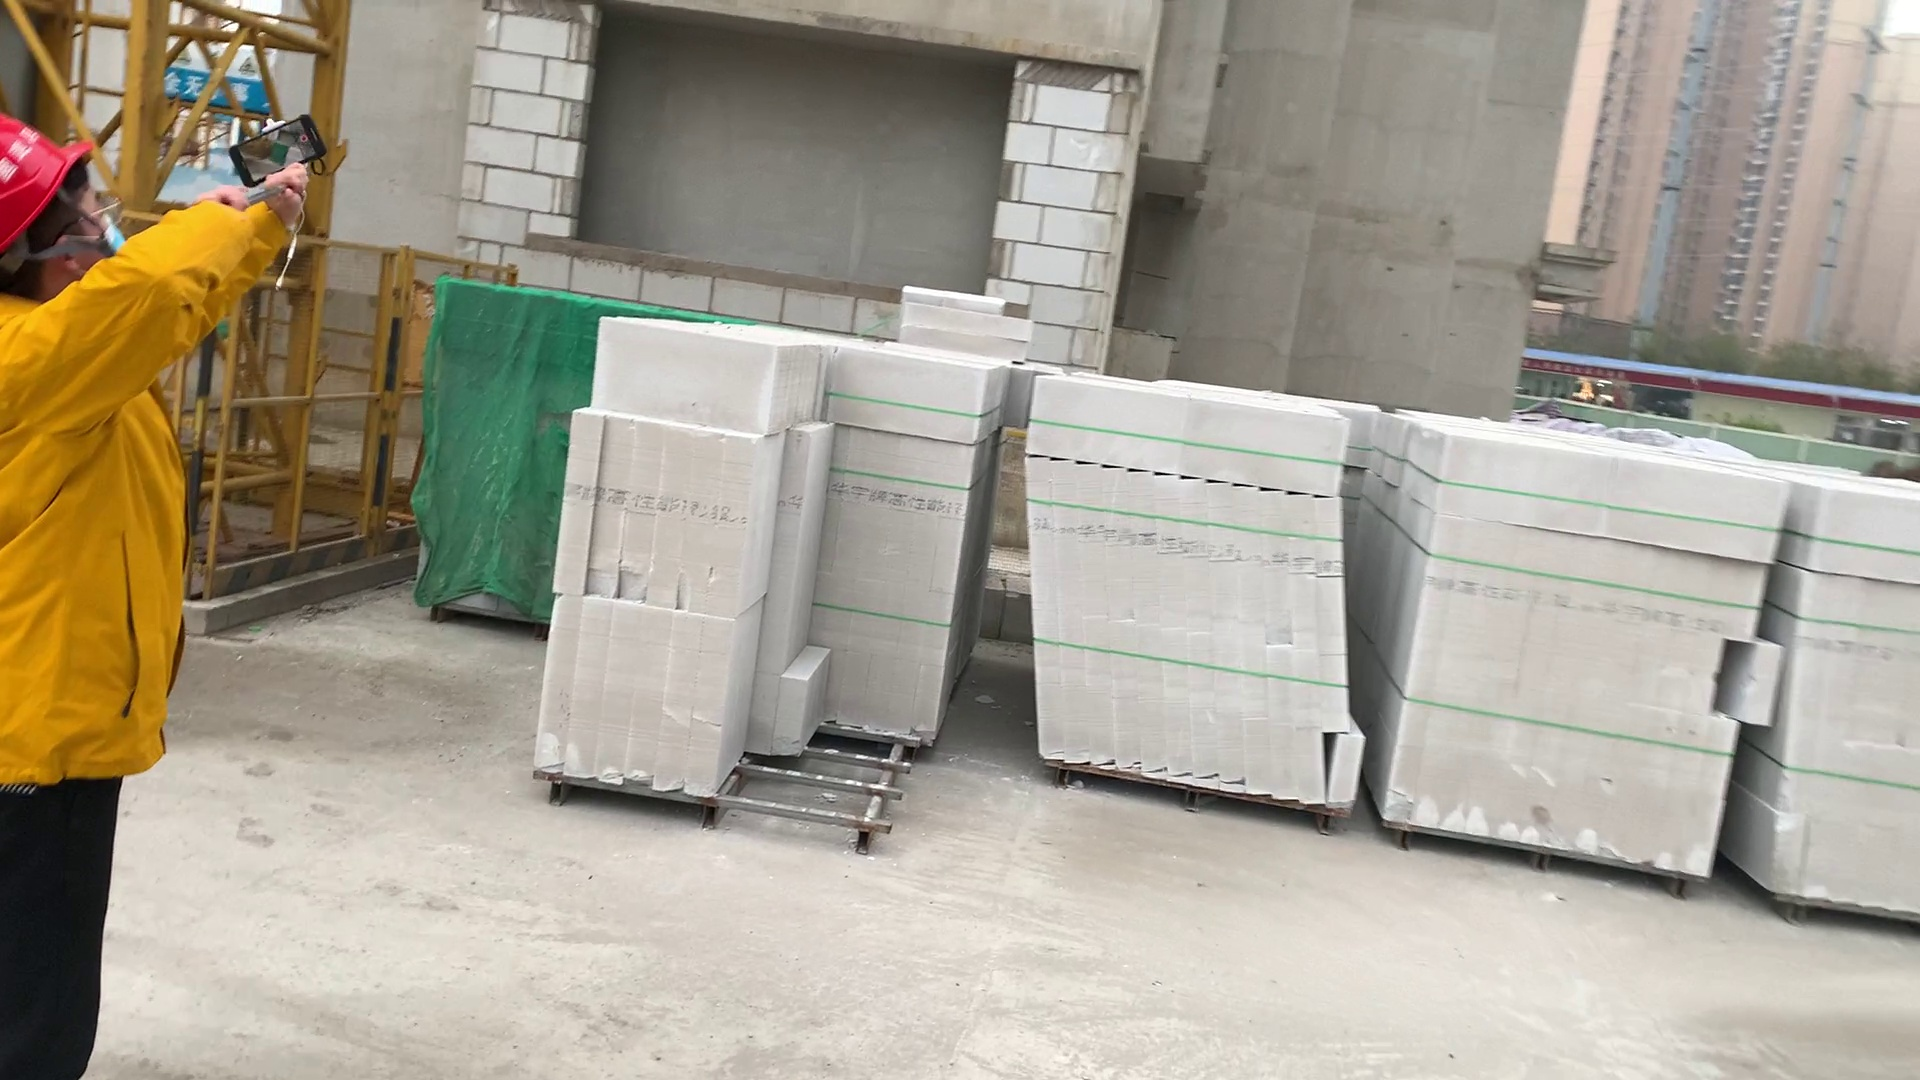brickwork: (538, 313, 1002, 808), (1393, 422, 1778, 893), (1025, 357, 1365, 825), (1764, 465, 1920, 905), (400, 272, 560, 625)
